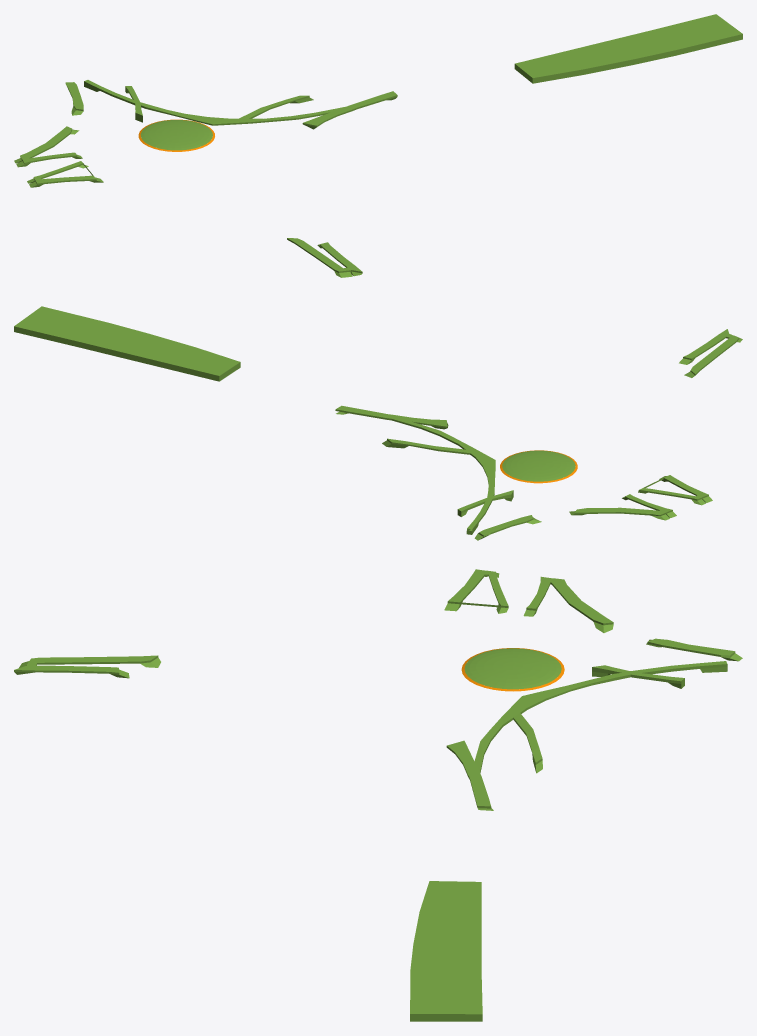
The model's file is pont.gltf.
3 renders of one model, top to bottom at view 1: azimuth 30°, elevation 25°; view 2: azimuth 150°, elevation 25°; view 3: azimuth 270°, elevation 25°, orthographic. The views are drawn at different scales.
Visible parts, largest first — view 1: pont.001; view 2: pont.001; view 3: pont.001.
Part boxes in pixels (x1=…): pont.001: x1=14, y1=14, x2=742, y2=277; pont.001: x1=14, y1=306, x2=742, y2=540; pont.001: x1=14, y1=569, x2=742, y2=1021.
Size of the model in its own units: 1.98 by 0.0275 by 1.35.
3 materials, 3 textured.
